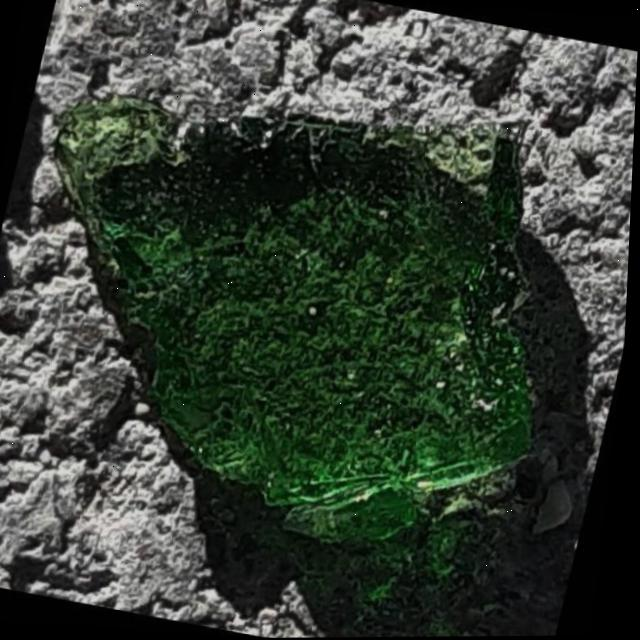Dry: (208, 116, 565, 541), (132, 153, 237, 454), (288, 525, 525, 638), (70, 141, 172, 332)
